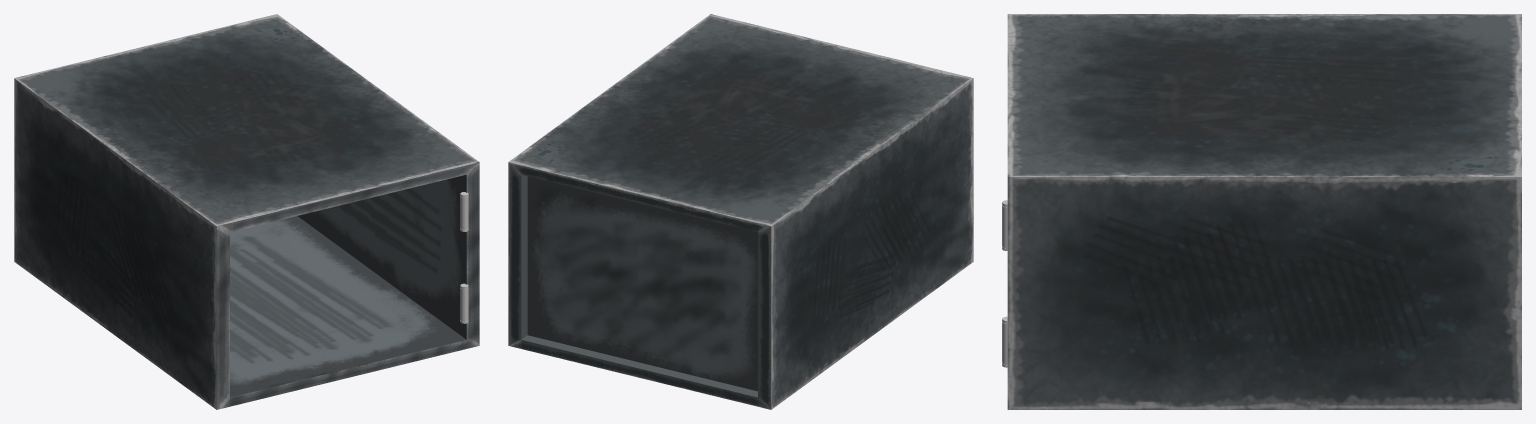
Rendered from safe_deposit_box_frame.fbx.
3 views of the same model, side by side, from view 1: azimuth 30°, elevation 25°; view 2: azimuth 150°, elevation 25°; view 3: azimuth 270°, elevation 25° (orthographic). The views are drawn at different scales.
Parts seen in each view (by area): view 1: Safe_Frame, Safe_Door_SliderThingies; view 2: Safe_Frame; view 3: Safe_Frame, Safe_Door_SliderThingies.
Boxes of the visible parts, x1=… form: Safe_Frame: x1=14, y1=14, x2=479, y2=409; Safe_Door_SliderThingies: x1=460, y1=192, x2=468, y2=323; Safe_Frame: x1=508, y1=14, x2=973, y2=409; Safe_Frame: x1=1007, y1=14, x2=1521, y2=409; Safe_Door_SliderThingies: x1=1002, y1=200, x2=1007, y2=367.
Bounding box in the file's own units: 150 × 100 × 202.
